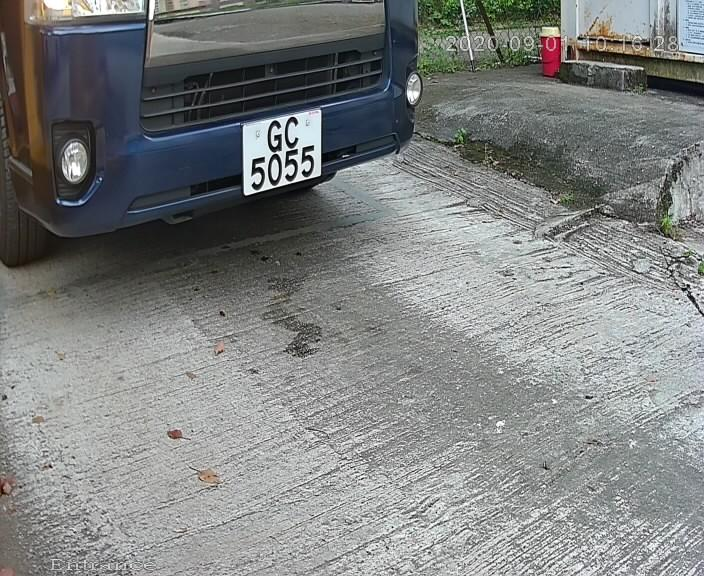Car: (19, 1, 466, 294)
License Plate: (233, 103, 331, 204)
